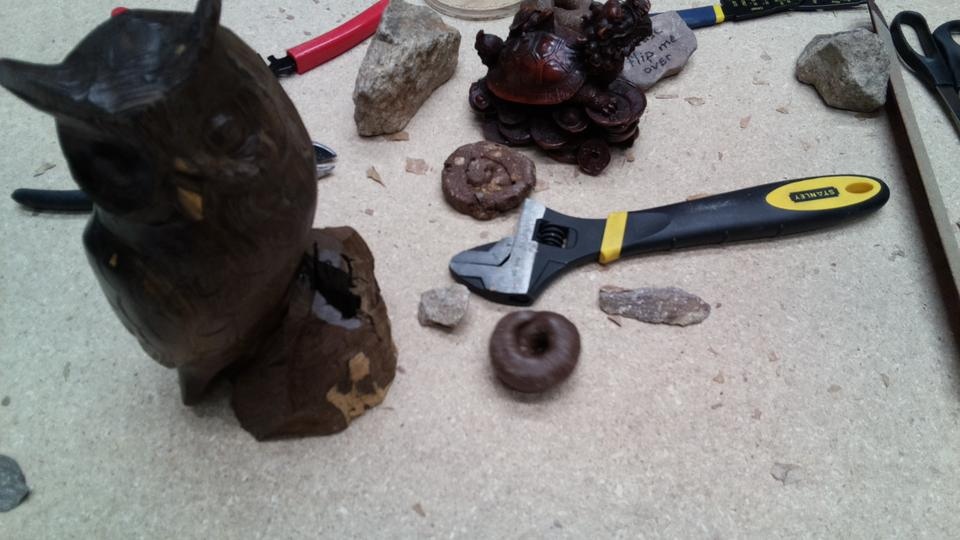poop: (486, 307, 583, 398), (438, 138, 539, 222)
